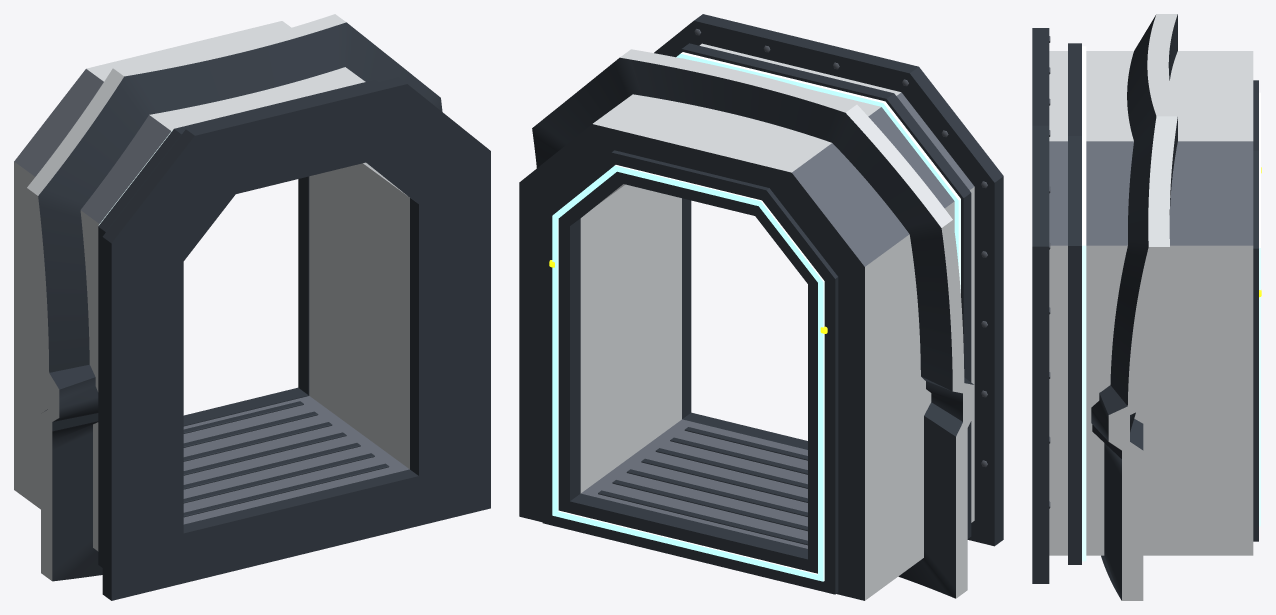
The model's file is DomeConnector_12m.fbx.
The picture shows the model from 3 angles, left to right: view 1: azimuth 30°, elevation 25°; view 2: azimuth 150°, elevation 25°; view 3: azimuth 270°, elevation 25°; orthographic projection. The views are drawn at different scales.
Parts seen in each view (by area): view 1: DomeConnector_Body; view 2: DomeConnector_Body; view 3: DomeConnector_Body.
Boxes of the visible parts, x1=… form: DomeConnector_Body: x1=14, y1=14, x2=490, y2=600; DomeConnector_Body: x1=519, y1=14, x2=1003, y2=600; DomeConnector_Body: x1=1032, y1=14, x2=1261, y2=600.
Size of the model in its own units: 3.08 by 3.43 by 1.61.
